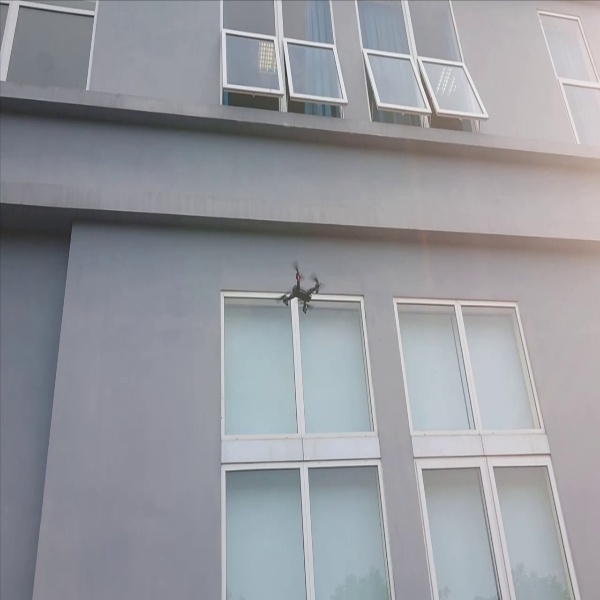drone: (274, 260, 329, 316)
